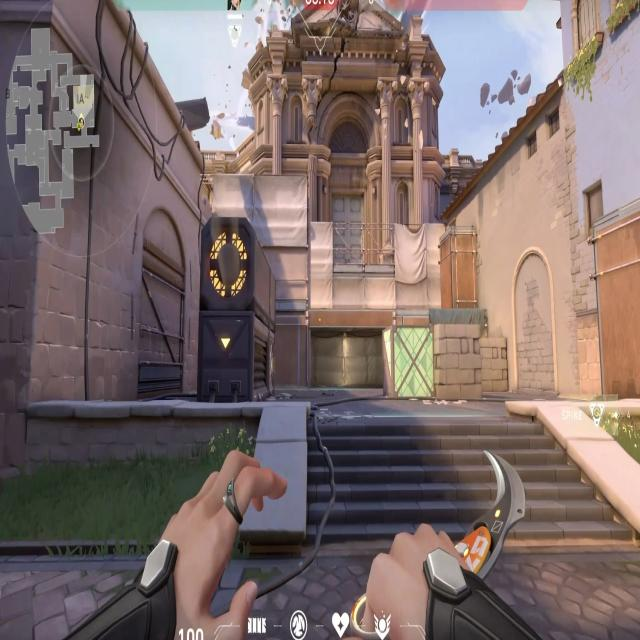A_Heaven_Box: (438, 219, 479, 318)
A_Heaven_Wall: (207, 176, 312, 315)
A_Hell: (296, 317, 407, 393)
A_Site_Box: (381, 323, 486, 407)
